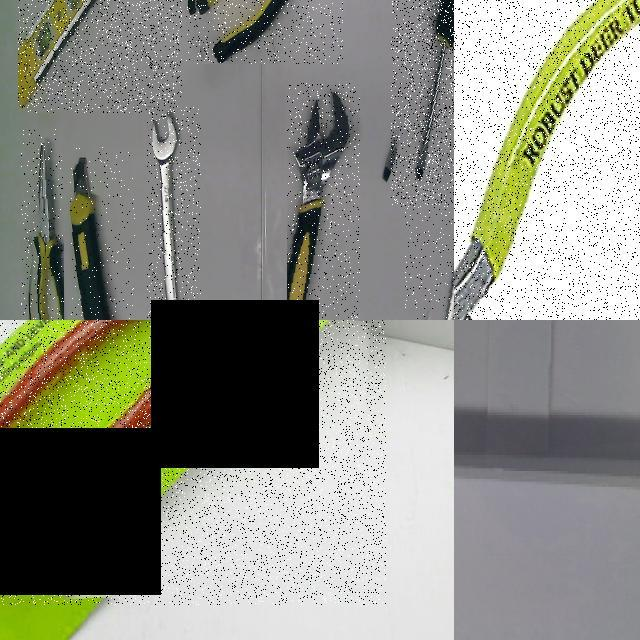estilete: (70, 158, 111, 319)
